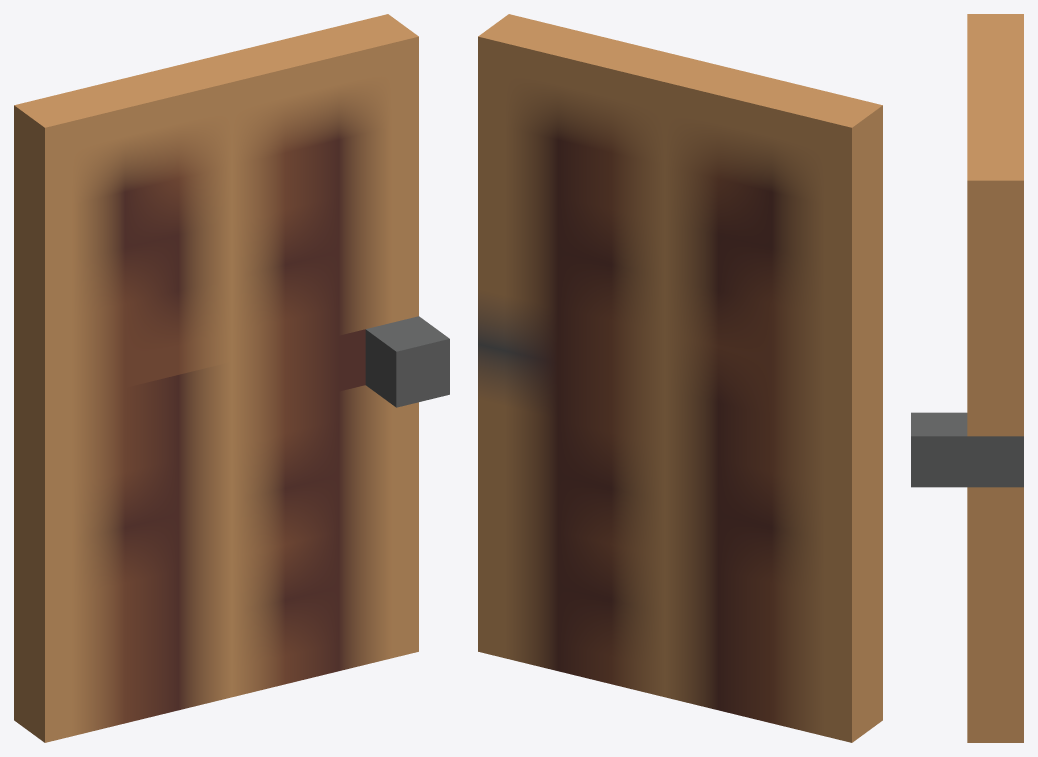
File: door_5.fbx
3 renders of one model, left to right at view 1: azimuth 30°, elevation 25°; view 2: azimuth 150°, elevation 25°; view 3: azimuth 270°, elevation 25°, orthographic. The views are drawn at different scales.
Visible parts, largest first — view 1: door_5; view 2: door_5; view 3: door_5.
Part boxes in pixels (x1,y1,x2,y2): door_5: [14, 14, 449, 742]; door_5: [478, 14, 882, 742]; door_5: [911, 14, 1023, 742].
Size of the model in its own units: 7 by 11 by 2.
1 material, 1 textured.
